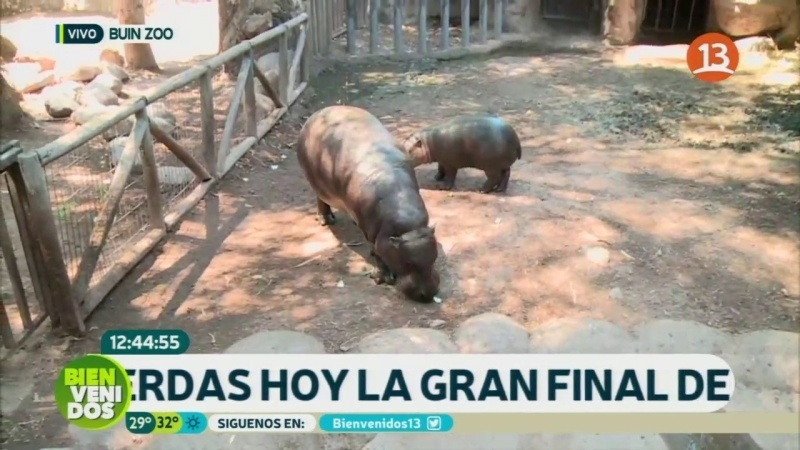hipopotamo: (280, 94, 450, 314), (397, 97, 529, 216)
